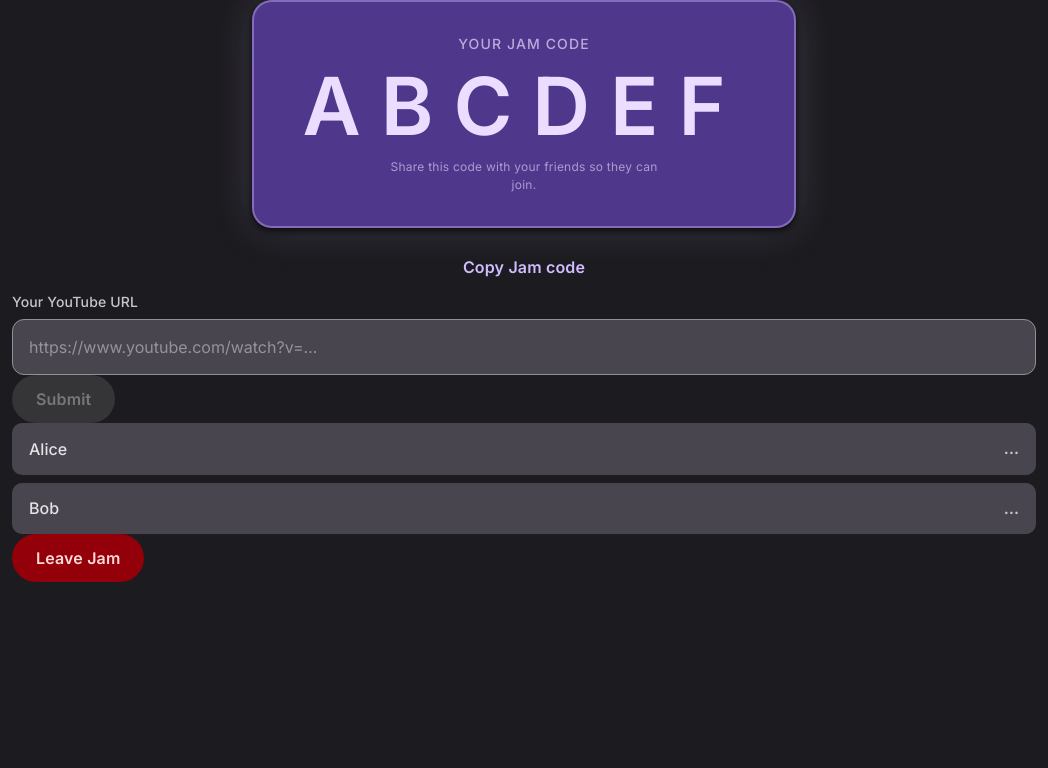
it: SubmissionComponent › enables the Submit button when a URL is entered
Step 1. Type "https://youtu.be/abc" into the field labelled "Your YouTube URL" → (524, 347), box [12, 319, 1036, 375]
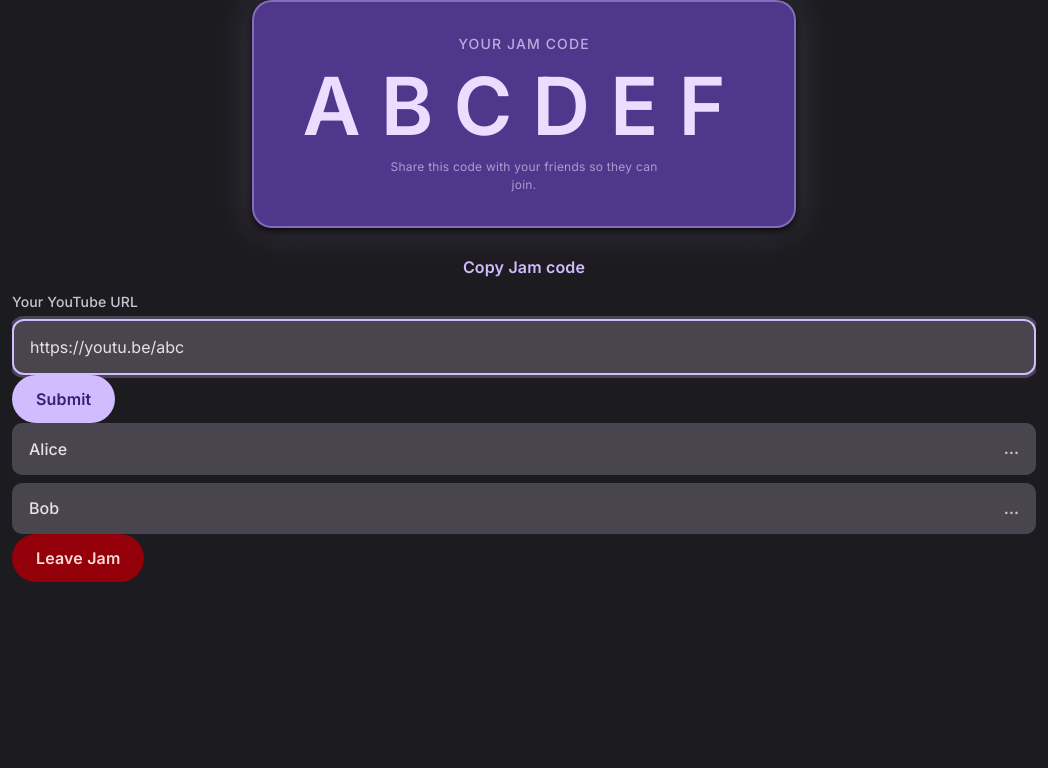
Expected: the button "Submit" is enabled, [12, 375, 115, 423]
